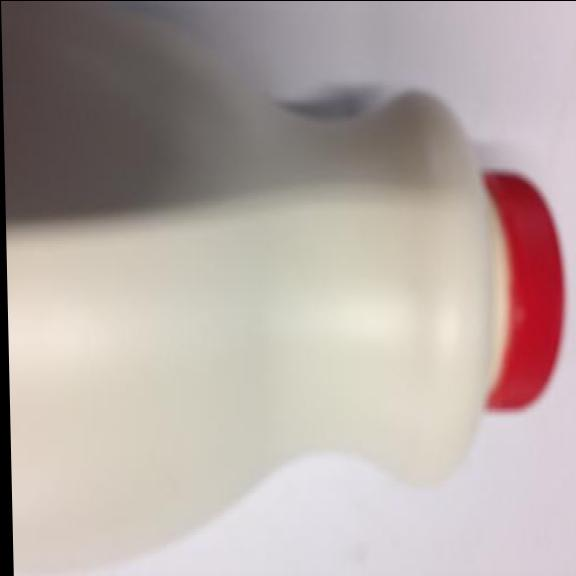Plastik: (0, 0, 573, 572)
